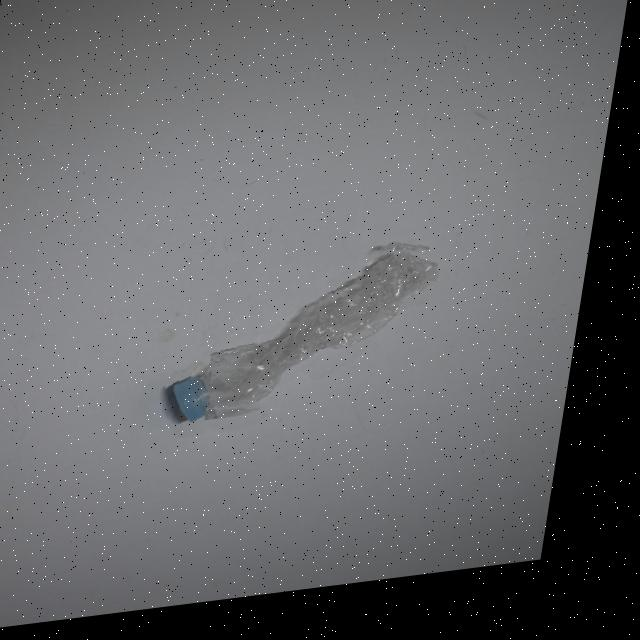plasticbottle: (214, 236, 453, 428)
plasticbottlecap: (173, 366, 226, 436)
